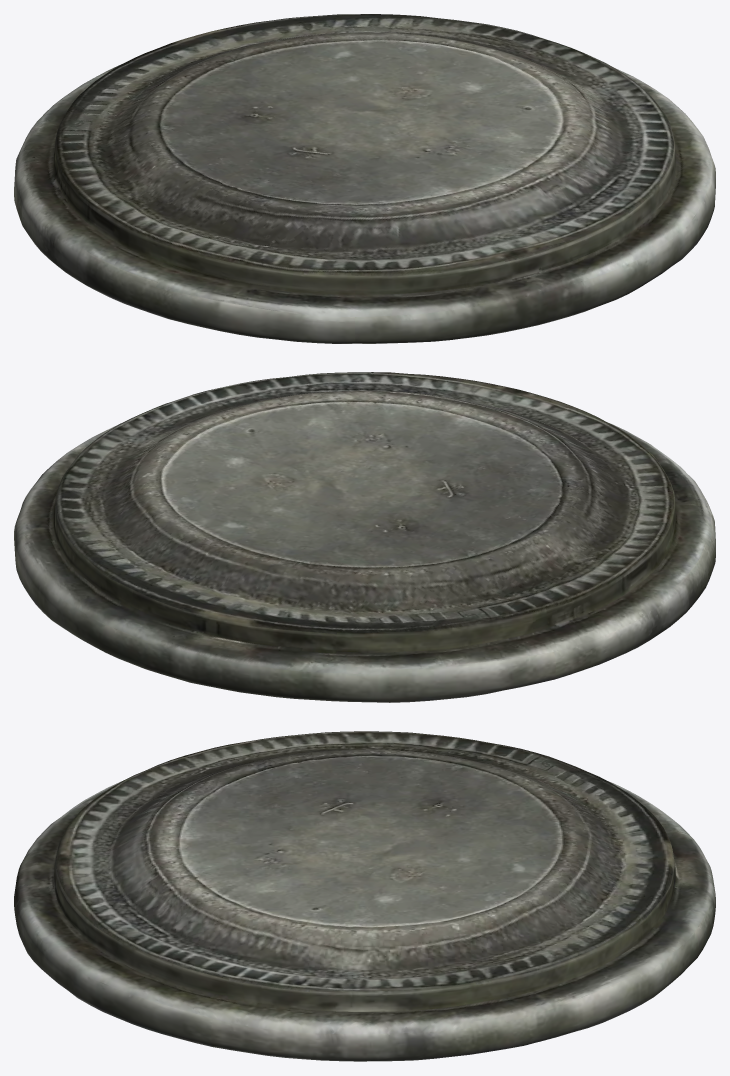
File: plate.glb
3 views of the same model, one above another, from view 1: azimuth 30°, elevation 25°; view 2: azimuth 150°, elevation 25°; view 3: azimuth 270°, elevation 25° (orthographic).
Size of the model in its own units: 2 by 0.2333 by 2.
1 material, 1 textured.
